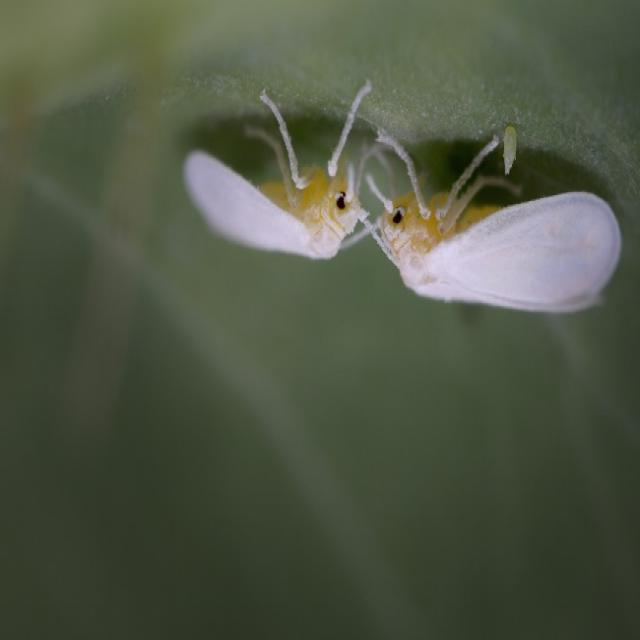Whitefly: (174, 67, 631, 331)
